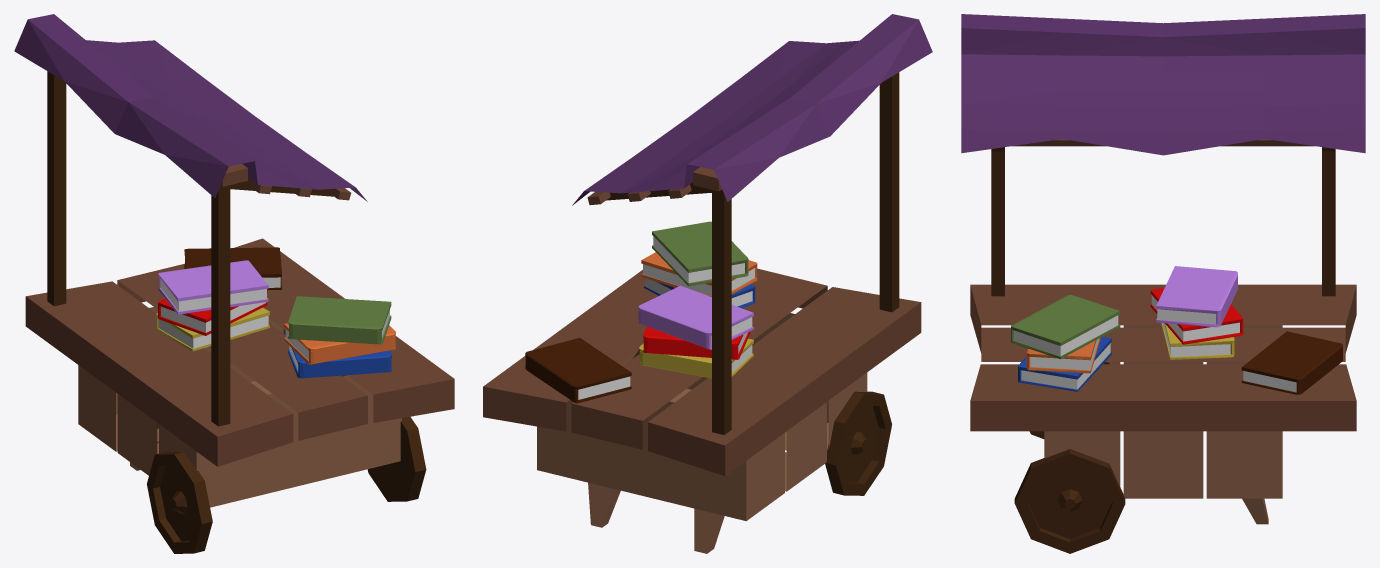
File: BookStand1.fbx
The picture shows the model from 3 angles, left to right: view 1: azimuth 30°, elevation 25°; view 2: azimuth 150°, elevation 25°; view 3: azimuth 270°, elevation 25°; orthographic projection. The views are drawn at different scales.
Parts seen in each view (by area): view 1: BookStand; view 2: BookStand; view 3: BookStand.
Part boxes in pixels (bbox=[...]): BookStand: bbox=[14, 14, 454, 553]; BookStand: bbox=[483, 14, 932, 553]; BookStand: bbox=[961, 14, 1365, 553].
Bounding box in the file's own units: 930 × 1556 × 1327.
